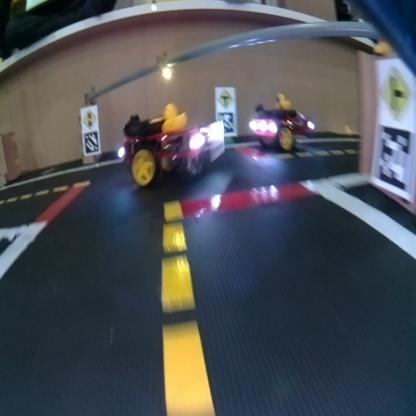duckie: (157, 99, 185, 132), (274, 84, 294, 110)
duckiebot: (114, 116, 232, 186), (248, 102, 319, 152)
